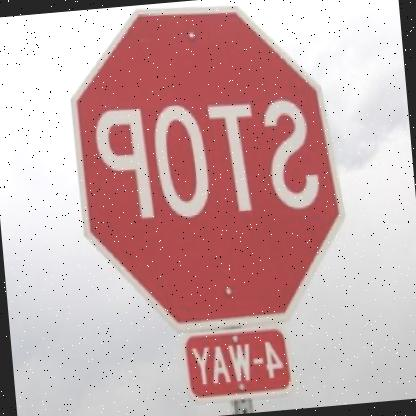stop: (64, 0, 359, 340)
